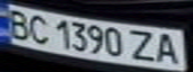0: (103, 25, 127, 58)
1: (48, 17, 72, 51)
3: (66, 19, 87, 53)
9: (84, 22, 106, 55)
A: (151, 30, 184, 65)
B: (3, 7, 33, 39)
C: (24, 11, 54, 44)
Z: (127, 27, 160, 63)
